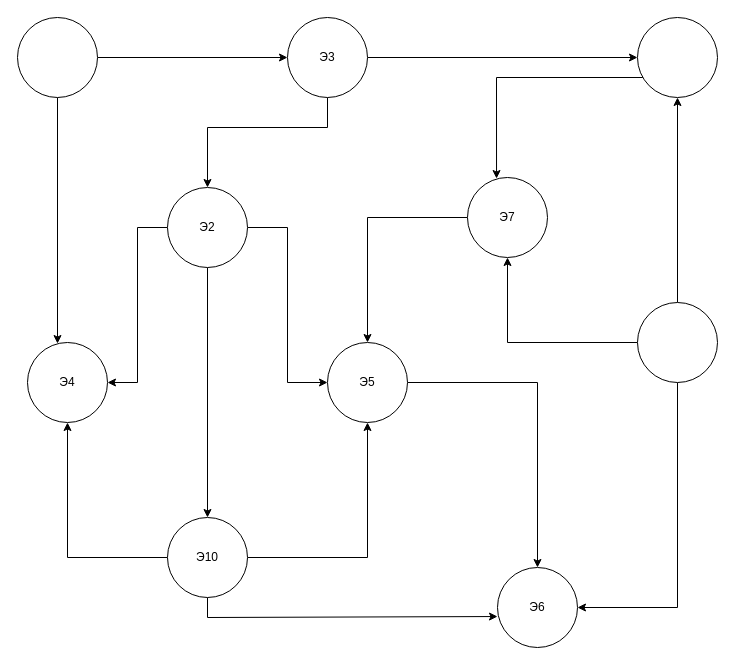
Some shapes in this 735 by 665 pixel diagram are drawn without their labels. Here are the shapes that lost their labels. From the top down, the centre of each, then its label:
At (57,57): "Э1".
At (677,57): "Э8".
At (677,342): "Э9".
